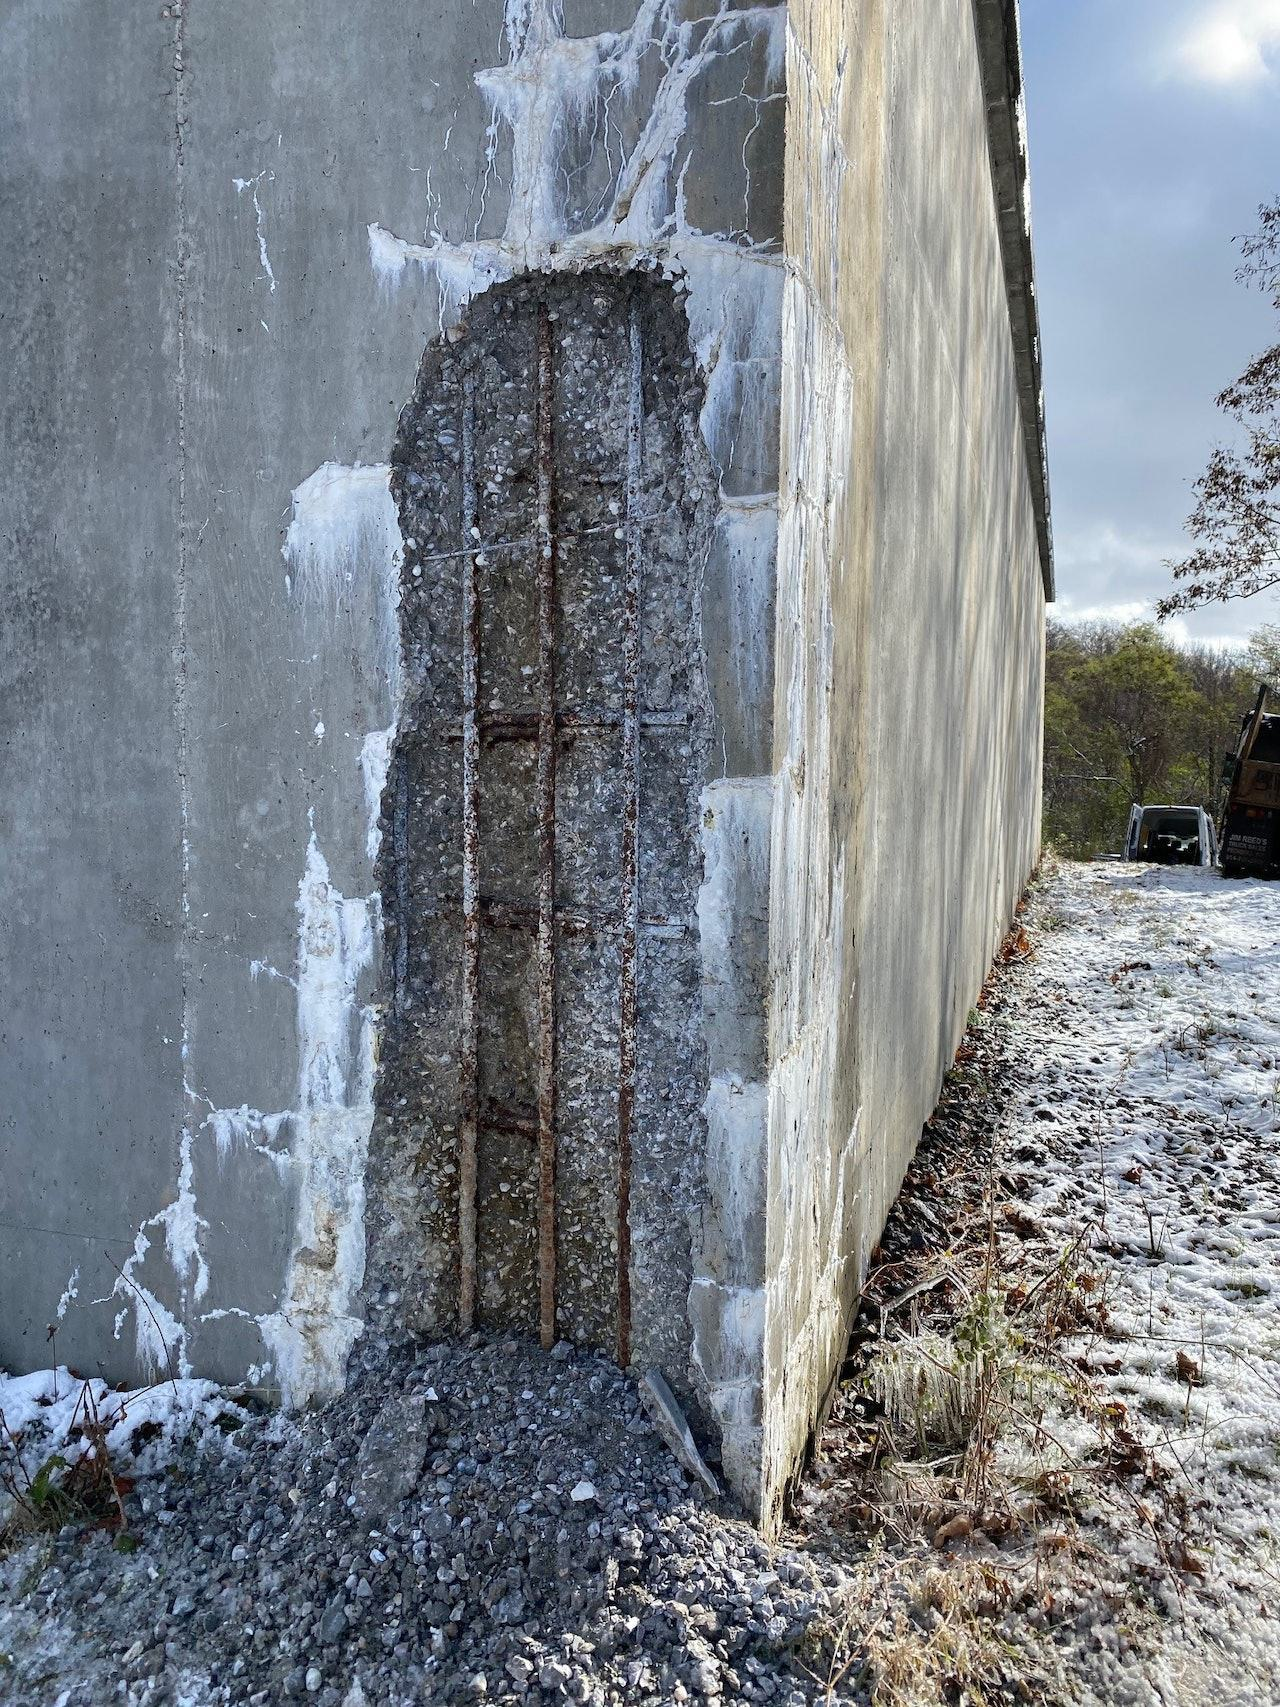Exposed reinforcement: (534, 301, 557, 1354), (460, 382, 480, 1335), (621, 310, 637, 1372), (419, 511, 668, 563), (436, 890, 691, 940), (477, 706, 692, 727), (437, 726, 539, 739)
Spalling: (337, 255, 725, 1497)
